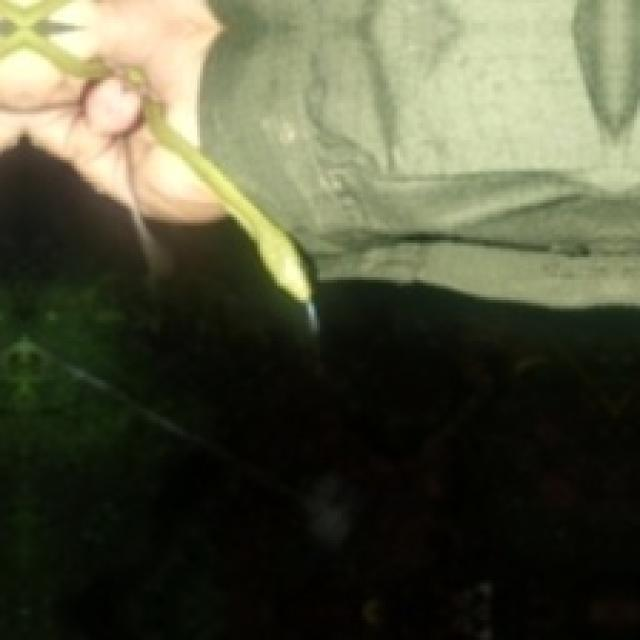red-tailed green ratsnake: (0, 0, 314, 322)
